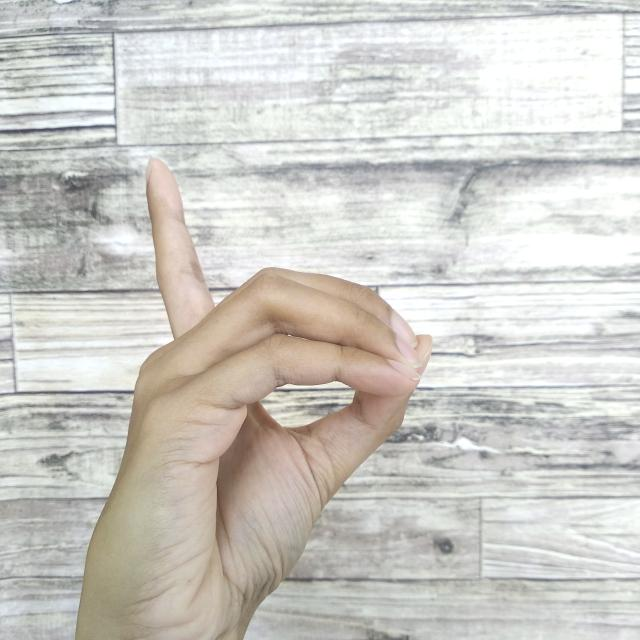D: (72, 157, 442, 640)
